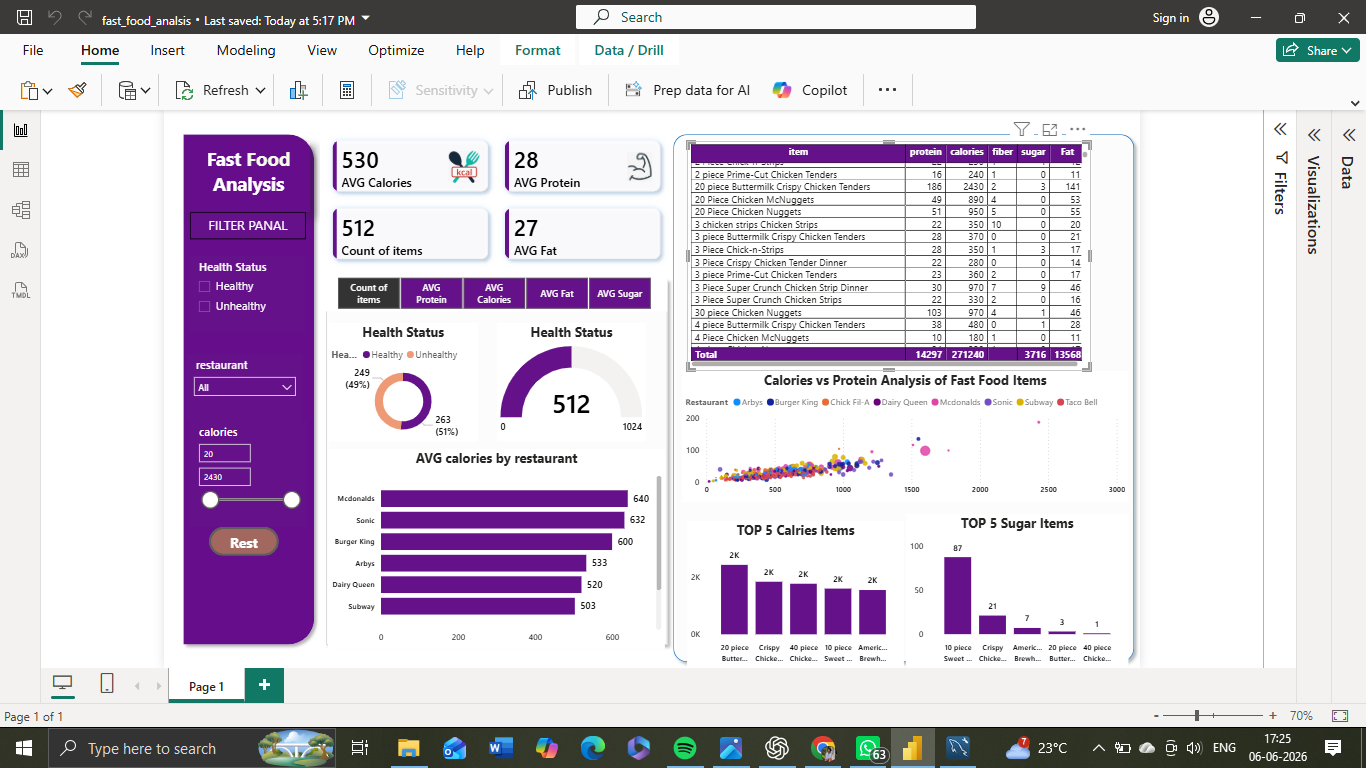

Layout of this report page (visuals, bound fields, positions):
{"tool":"powerbi","page":{"name":"Page 1","canvas":[1400,800],"ordinal":0},"visuals":[{"type":"shape","box":[18.4,25.7,205.8,749.6],"z":0},{"type":"textbox","box":[33.1,45.9,176.4,101],"z":1000},{"type":"cardVisual","fields":{"Data":["Measure Table.AVG Calories","Measure Table.AVG Protein","Measure Table.Count of items","Measure Table.AVG Fat"]},"box":[224.1,25.7,507.1,207.6],"z":2000},{"type":"shape","box":[224.1,233.3,507.1,542],"z":3000},{"type":"shape","box":[721.3,25.2,678.7,774.8],"z":4000},{"type":"donutChart","title":" Health Status","fields":{"Y":["Measure Table.Count of items"],"Category":["food.Health Status"]},"box":[235,305.5,215.4,170.3],"z":5000},{"type":"slicer","fields":{"Values":["Metrics.Metrics"]},"box":[224.1,233.3,497.9,55.1],"z":6000},{"type":"clusteredBarChart","title":"AVG calories by restaurant","fields":{"Category":["food.restaurant"],"Y":["Measure Table.AVG Calories"]},"box":[234.6,486.6,483.5,288.2],"z":7000},{"type":"gauge","title":" Health Status","fields":{"Y":["Measure Table.Count of items"]},"box":[477.8,305.5,213.4,170.3],"z":8000},{"type":"tableEx","title":"Calories VS Protein","fields":{"Values":["food.item","Sum(food.protein)","Sum(food.calories)","food.fiber","Sum(food.sugar)","Sum(food.Total fat)"]},"box":[749.9,45,579.6,329],"z":9000},{"type":"scatterChart","title":"Calories vs Protein Analysis of Fast Food Items","fields":{"X":["Sum(food.calories)"],"Y":["Sum(food.protein)"],"Series":["food.restaurant"],"Size":["Sum(food.sugar)"],"Category":["food.item"]},"box":[742.1,374,640.3,188],"z":10000},{"type":"columnChart","title":"TOP 5 Calries Items","fields":{"Category":["food.item"],"Y":["Sum(food.calories)"]},"box":[749.9,589.4,311.3,211.5],"z":11000},{"type":"columnChart","title":"TOP 5 Sugar Items","fields":{"Category":["food.item"],"Y":["Sum(food.sugar)"]},"box":[1063.2,579.6,319.2,221.3],"z":12000},{"type":"slicer","fields":{"Values":["food.Health Status"]},"box":[37.2,209.5,166.4,109.7],"z":13000},{"type":"slicer","fields":{"Values":["food.restaurant"]},"box":[33.3,350.5,166.4,95.9],"z":14000},{"type":"slicer","fields":{"Values":["food.calories"]},"box":[37.2,446.4,166.4,150.8],"z":15000},{"type":"textbox","box":[37.2,146.9,166.4,39.2],"z":16000},{"type":"actionButton","box":[64.7,598,100,41.2],"z":17000}]}

Visuals, with their boxes in screenshot pixels (x1, y1, x2, y2):
shape: rect(120, 34, 308, 719)
textbox: rect(133, 53, 295, 145)
cardVisual - Measure Table.AVG Calories x Measure Table.AVG Protein: rect(308, 34, 771, 224)
shape: rect(308, 224, 771, 719)
shape: rect(762, 34, 1365, 742)
" Health Status" donutChart: rect(318, 290, 515, 445)
slicer - Metrics.Metrics: rect(308, 224, 763, 274)
"AVG calories by restaurant" clusteredBarChart: rect(317, 455, 759, 719)
" Health Status" gauge: rect(540, 290, 735, 445)
"Calories VS Protein" tableEx: rect(788, 52, 1318, 352)
"Calories vs Protein Analysis of Fast Food Items" scatterChart: rect(781, 352, 1365, 524)
"TOP 5 Calries Items" columnChart: rect(788, 549, 1073, 742)
"TOP 5 Sugar Items" columnChart: rect(1075, 540, 1365, 742)
slicer - food.Health Status: rect(137, 202, 289, 302)
slicer - food.restaurant: rect(134, 331, 286, 419)
slicer - food.calories: rect(137, 419, 289, 556)
textbox: rect(137, 145, 289, 181)
actionButton: rect(162, 557, 254, 595)
